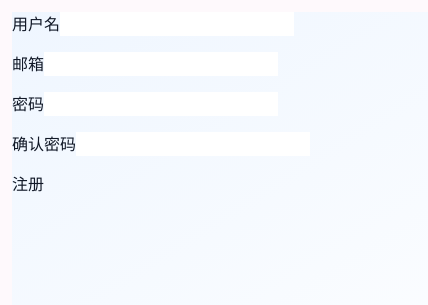
Test: RegisterForm › should show validation errors for empty fields
Click the button "注册".
click(28, 184)  # box top-left (12, 172), bottom-right (44, 196)
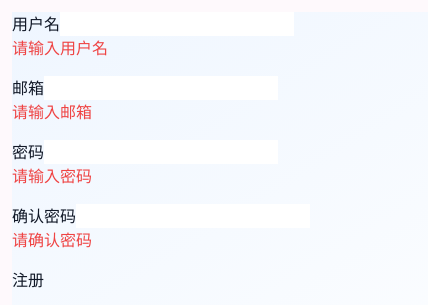
Result: the text "请输入用户名" is shown at top-left (12, 38), bottom-right (108, 58)
Result: the text "请输入邮箱" is shown at top-left (12, 102), bottom-right (92, 122)
Result: the text "请输入密码" is shown at top-left (12, 166), bottom-right (92, 186)
